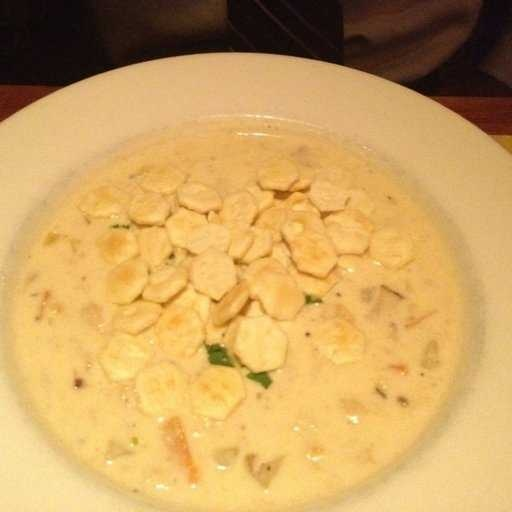dw: (15, 126, 439, 505)
